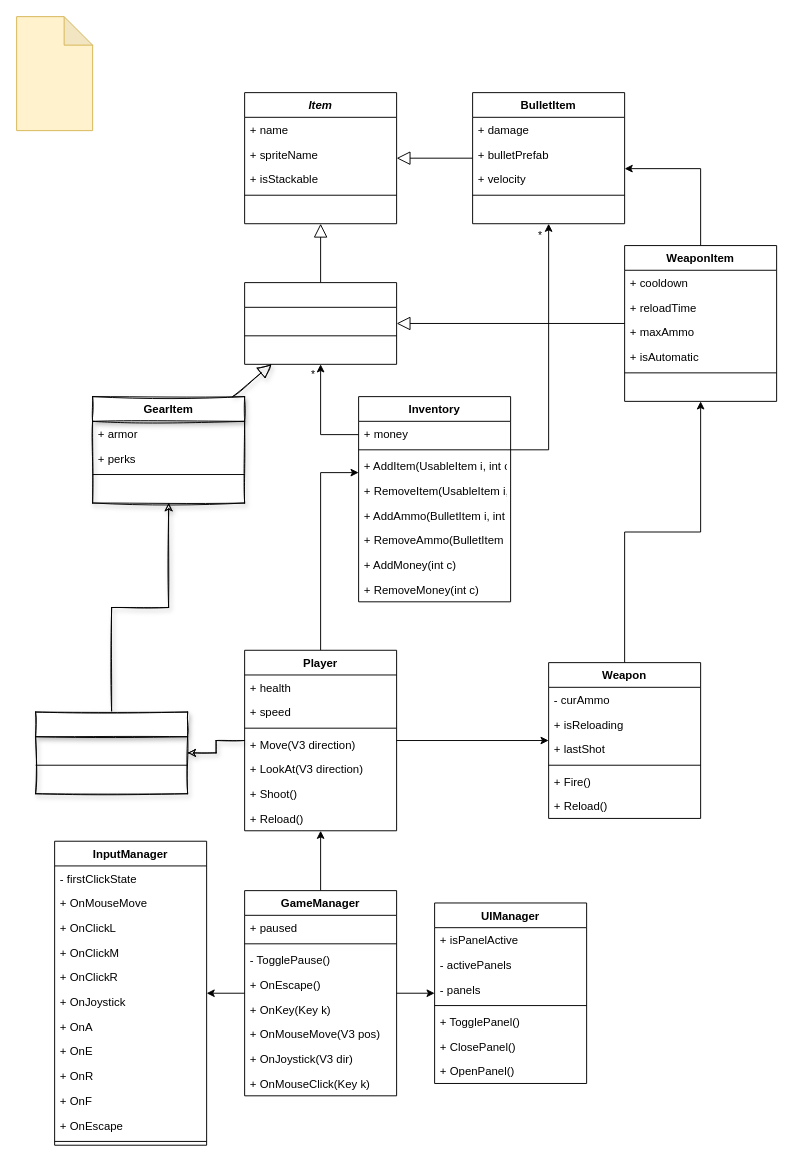
The diagram is 793 pixels wide and 1162 high, and some of its shapes have lost their labels. Each missing label, with the centre of its shape:
"Elements with sketch and shadow style = still in study" belongs at [54,73].
"Gear" belongs at [112,753].
"UsableItem" belongs at [320,323].
